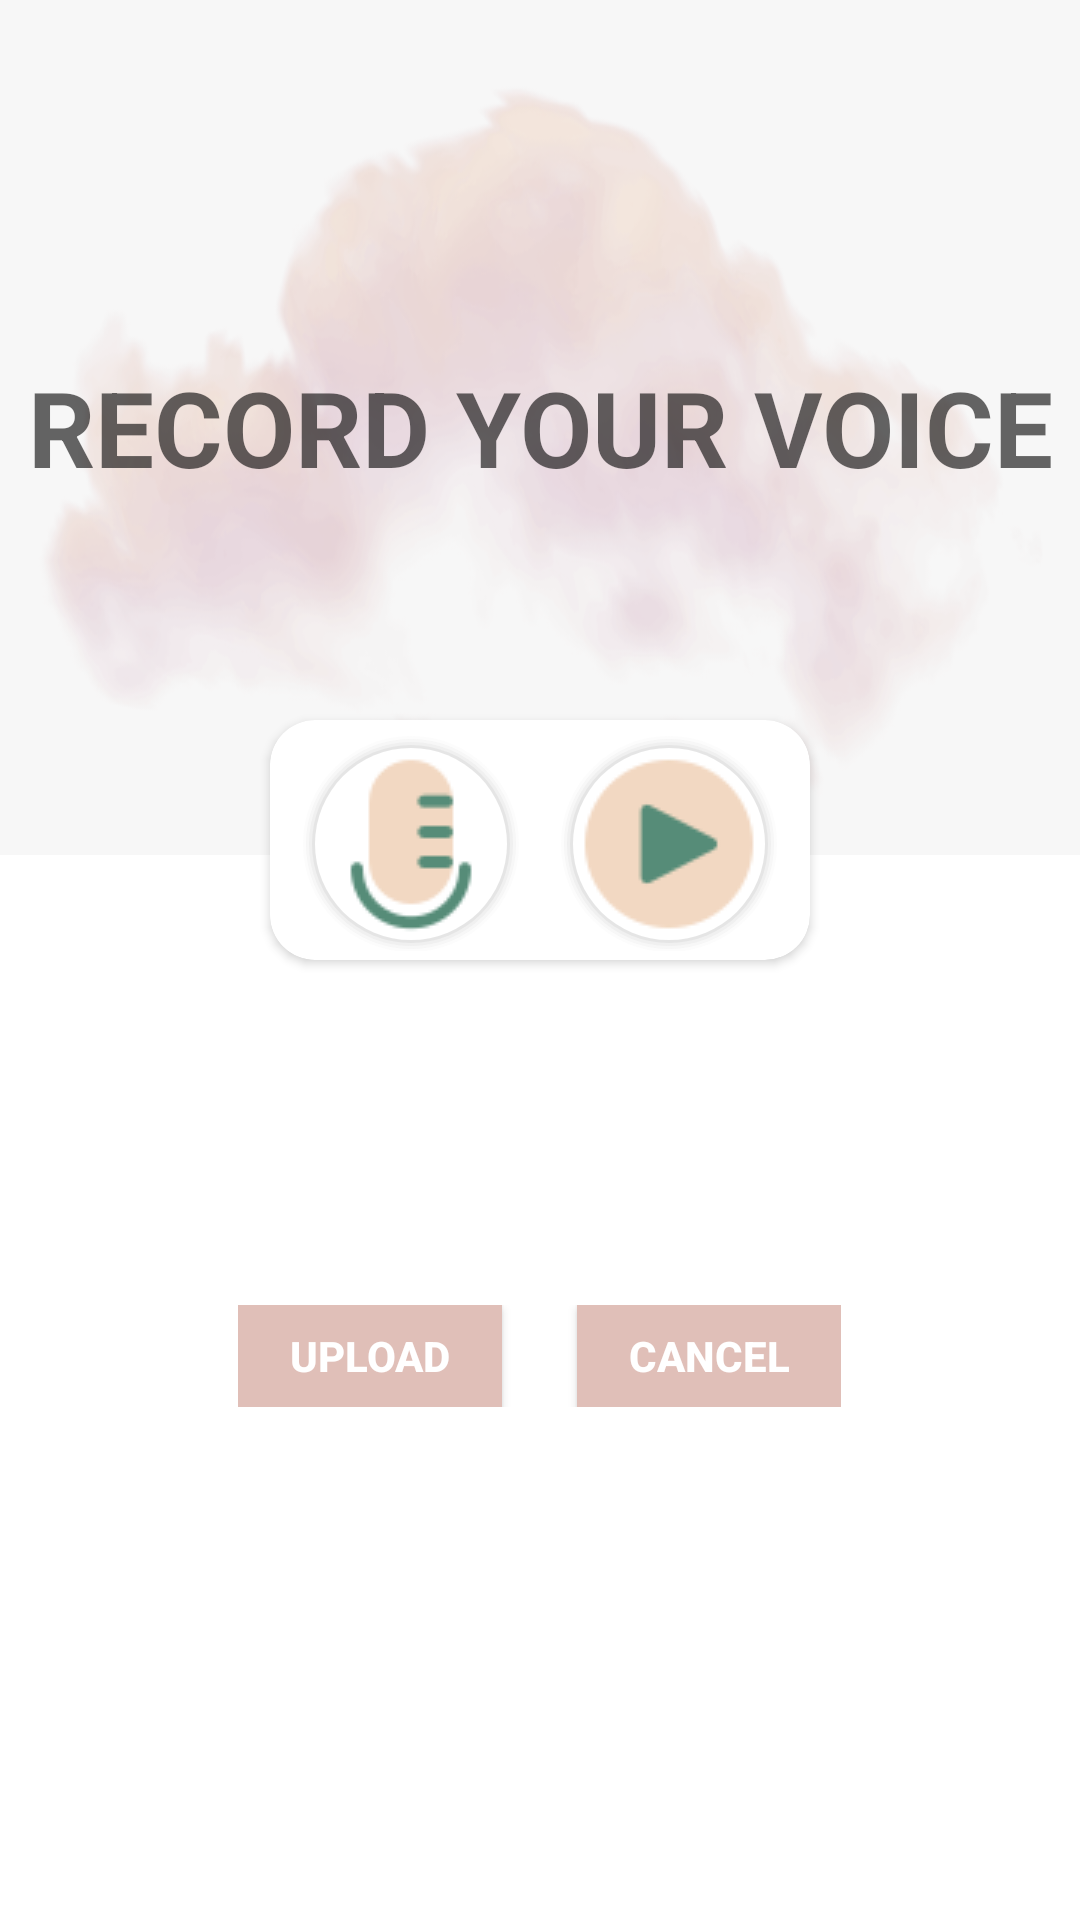

Icons on this 1080 x 1920 Android screen, each with the point to tap as (x=x, y=y):
play: (x=669, y=844)
record: (x=411, y=844)
